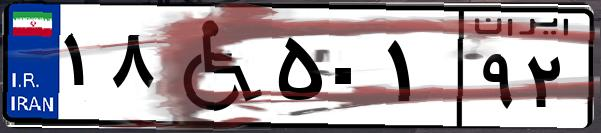0: (330, 28, 385, 110)
1: (385, 28, 445, 110), (57, 26, 110, 100)
2: (525, 38, 570, 115)
5: (270, 28, 330, 110)
8: (110, 28, 158, 98)
9: (475, 38, 525, 113)
ژ (معلولین و جانبازان): (158, 12, 270, 120)
